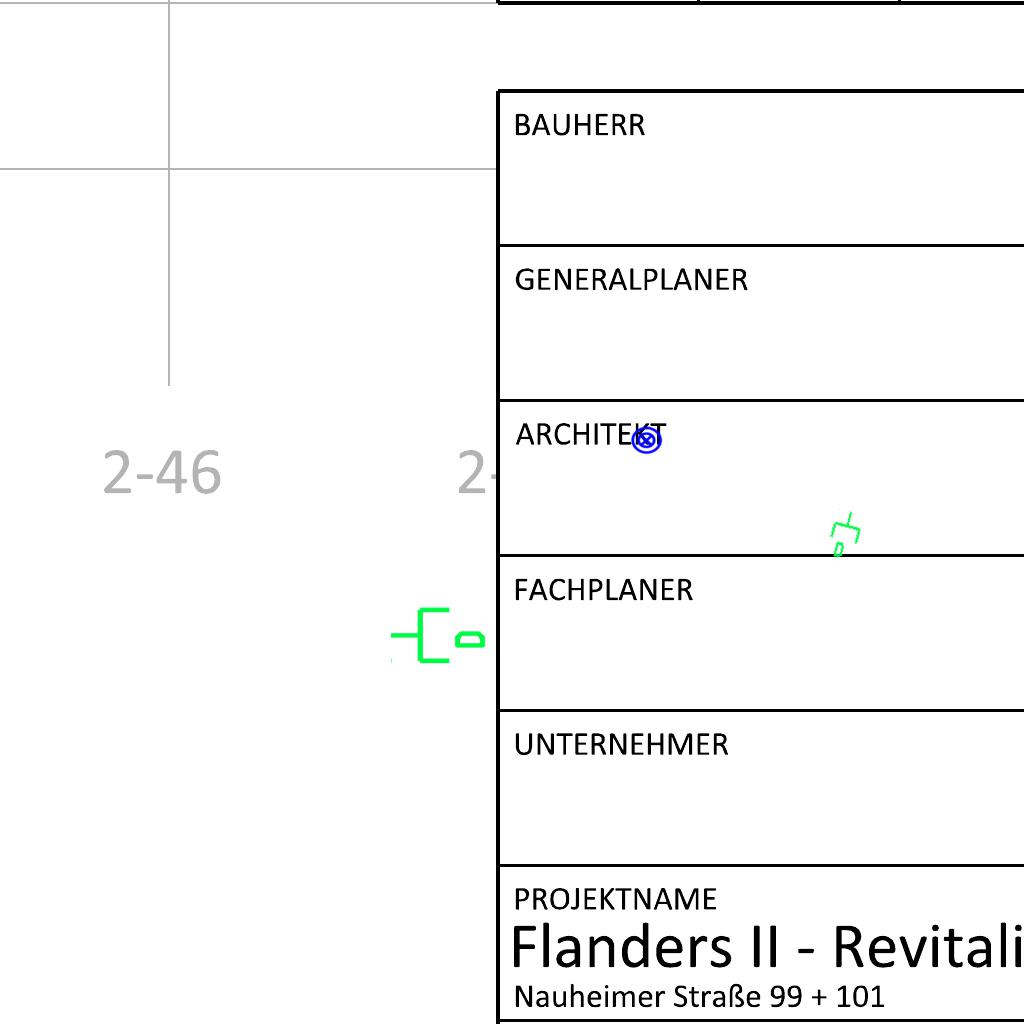Datenanschluss_einfach: (388, 599, 488, 668), (823, 506, 869, 564)
Taster_beleuchtet: (630, 424, 663, 457)
